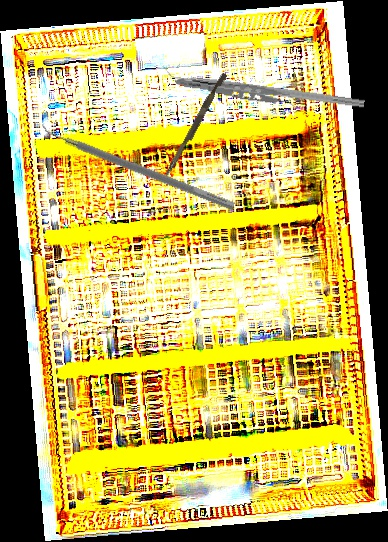Chopper: (160, 59, 367, 109)
Pusher: (161, 71, 228, 184)
Spatula Surgical: (37, 119, 239, 211)
Tissue Forceps: (173, 75, 300, 111)
